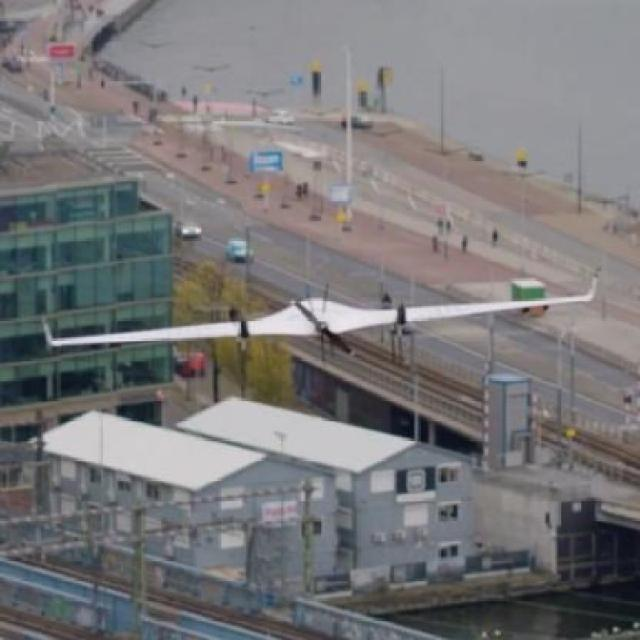iha: (27, 290, 608, 338)
